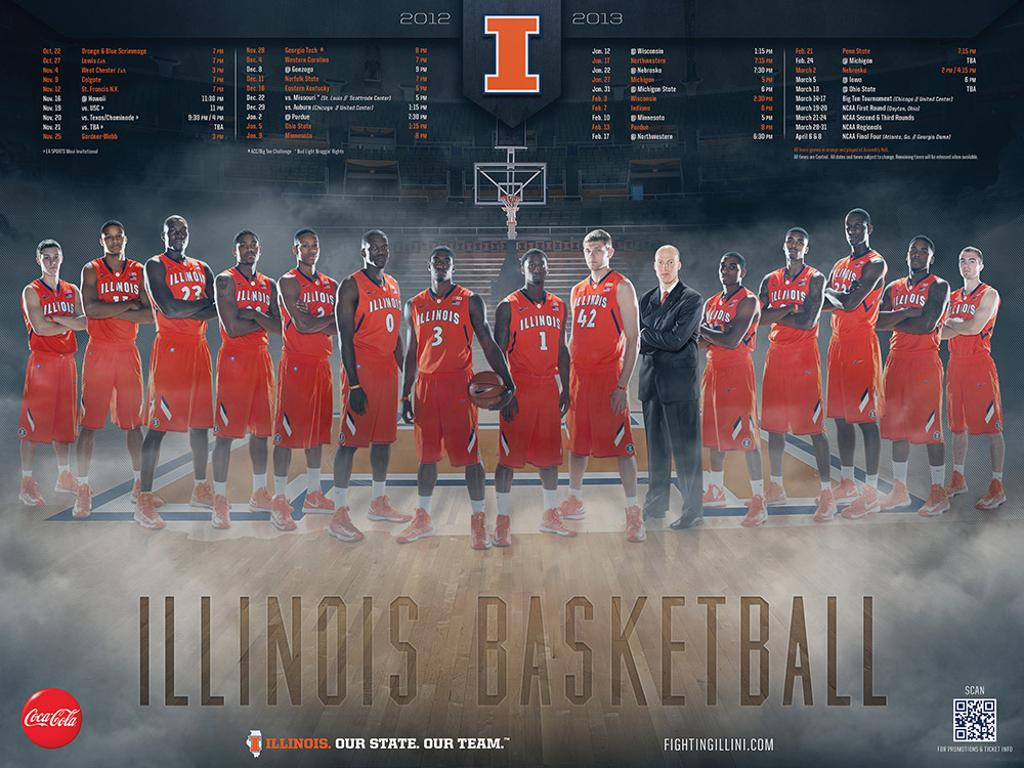face: (845, 216, 869, 246), (165, 222, 189, 250), (656, 254, 679, 283), (584, 244, 609, 270), (719, 257, 742, 285), (908, 243, 932, 269), (524, 257, 548, 283), (366, 240, 389, 267), (102, 229, 126, 254), (297, 238, 320, 264), (785, 234, 807, 259), (236, 240, 259, 263), (432, 256, 454, 280), (41, 250, 61, 275), (960, 254, 980, 278)
